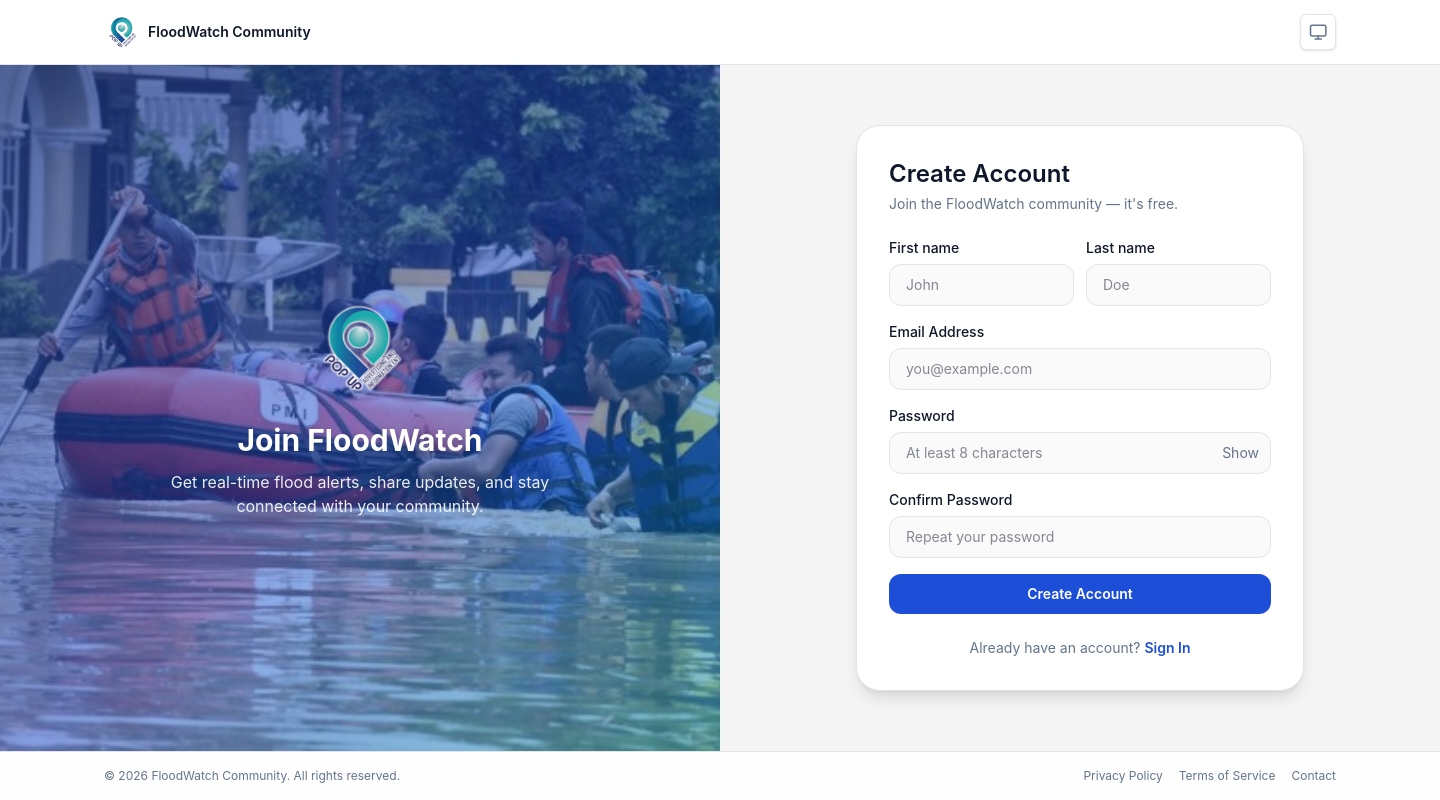
it: Community · register › surfaces a friendly message when the email already exists (409)
Type "Ada" into the field with id "firstName" at coordinates (982, 285), box x1=889 y1=264 x2=1074 y2=306
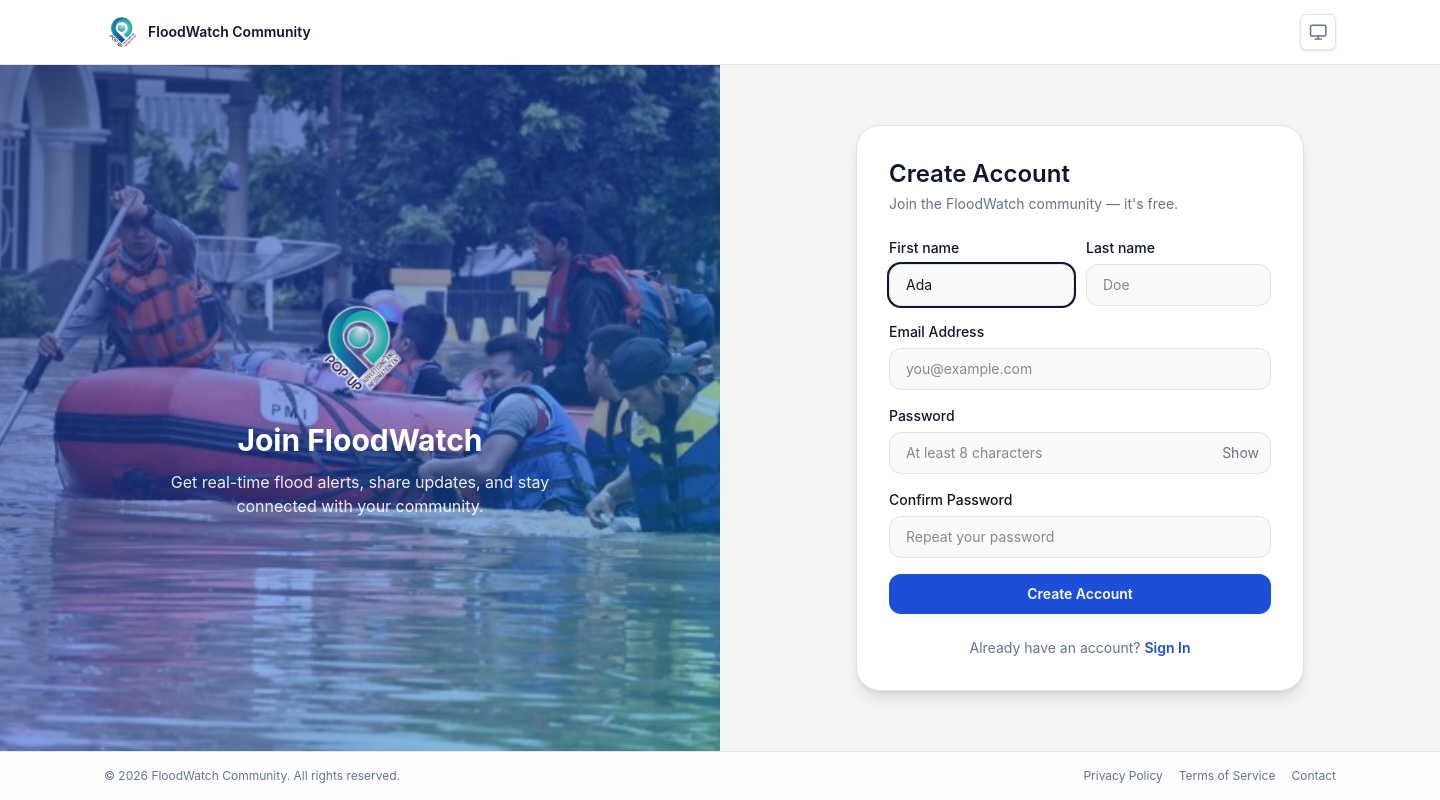
Type "Lovelace" into the field with id "lastName" at coordinates (1179, 285), box x1=1086 y1=264 x2=1271 y2=306
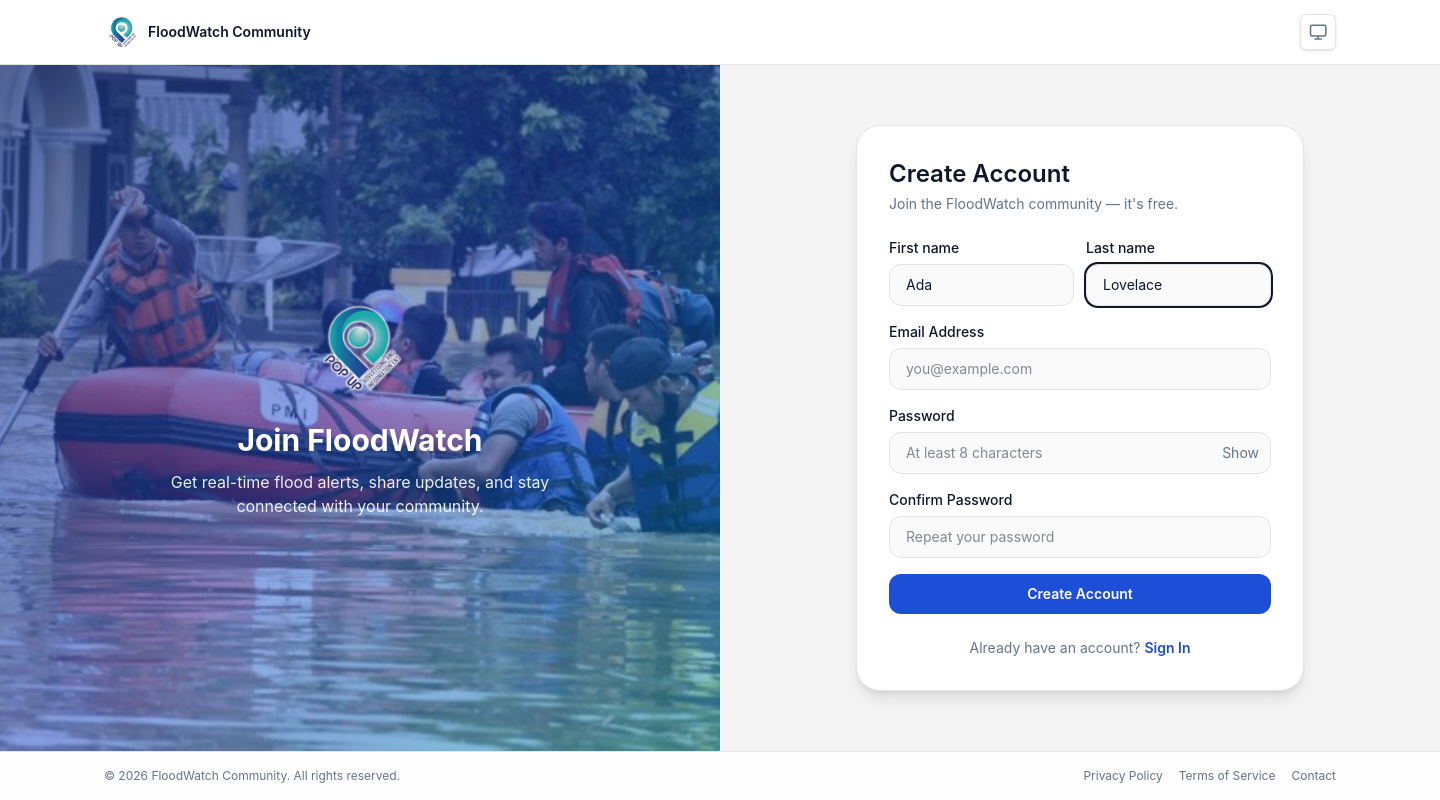
Type "taken@example.com" into the field with id "email" at coordinates (1080, 369), box x1=889 y1=348 x2=1271 y2=390
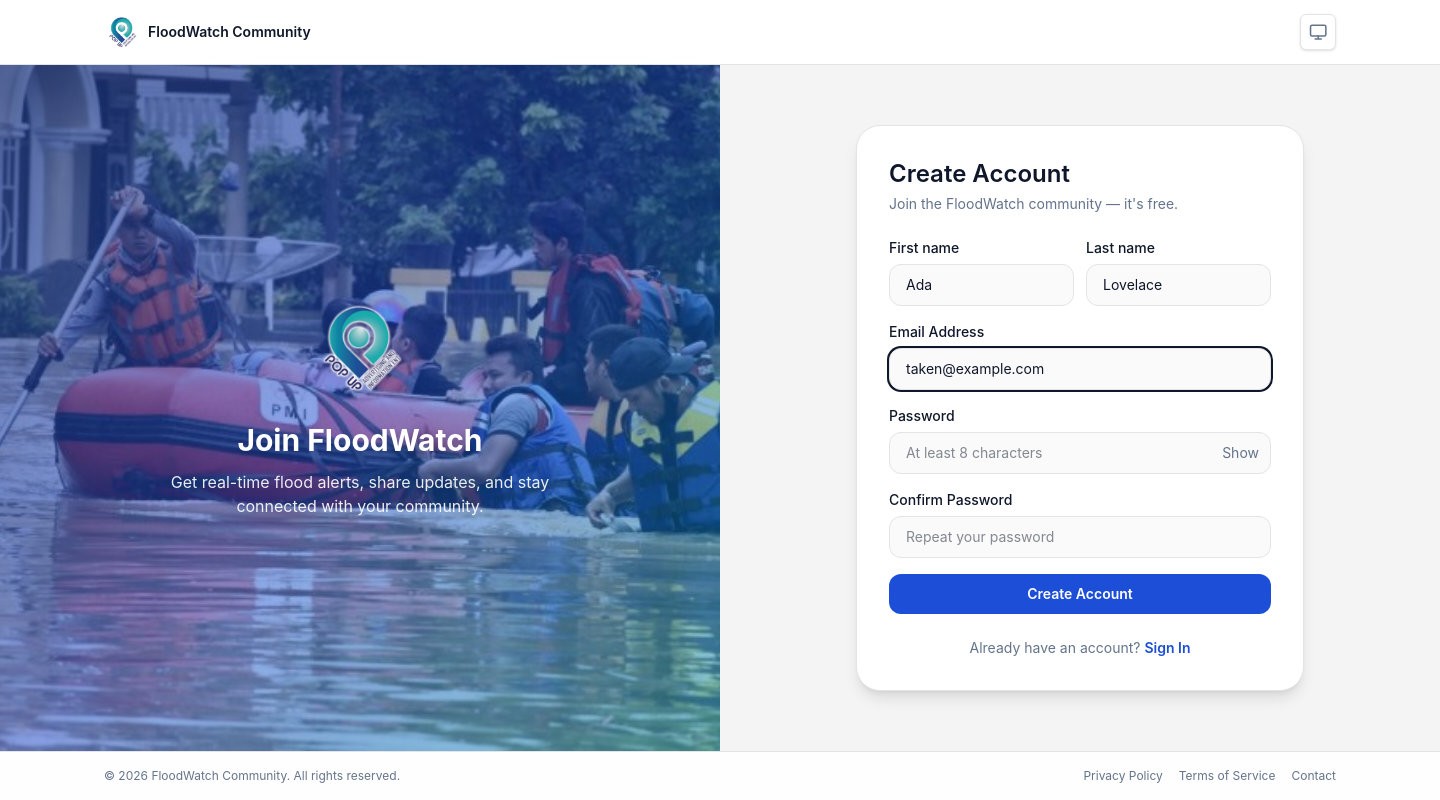
Type "Password@123" into the password field labelled "Password" at coordinates (1080, 453), box x1=889 y1=432 x2=1271 y2=474
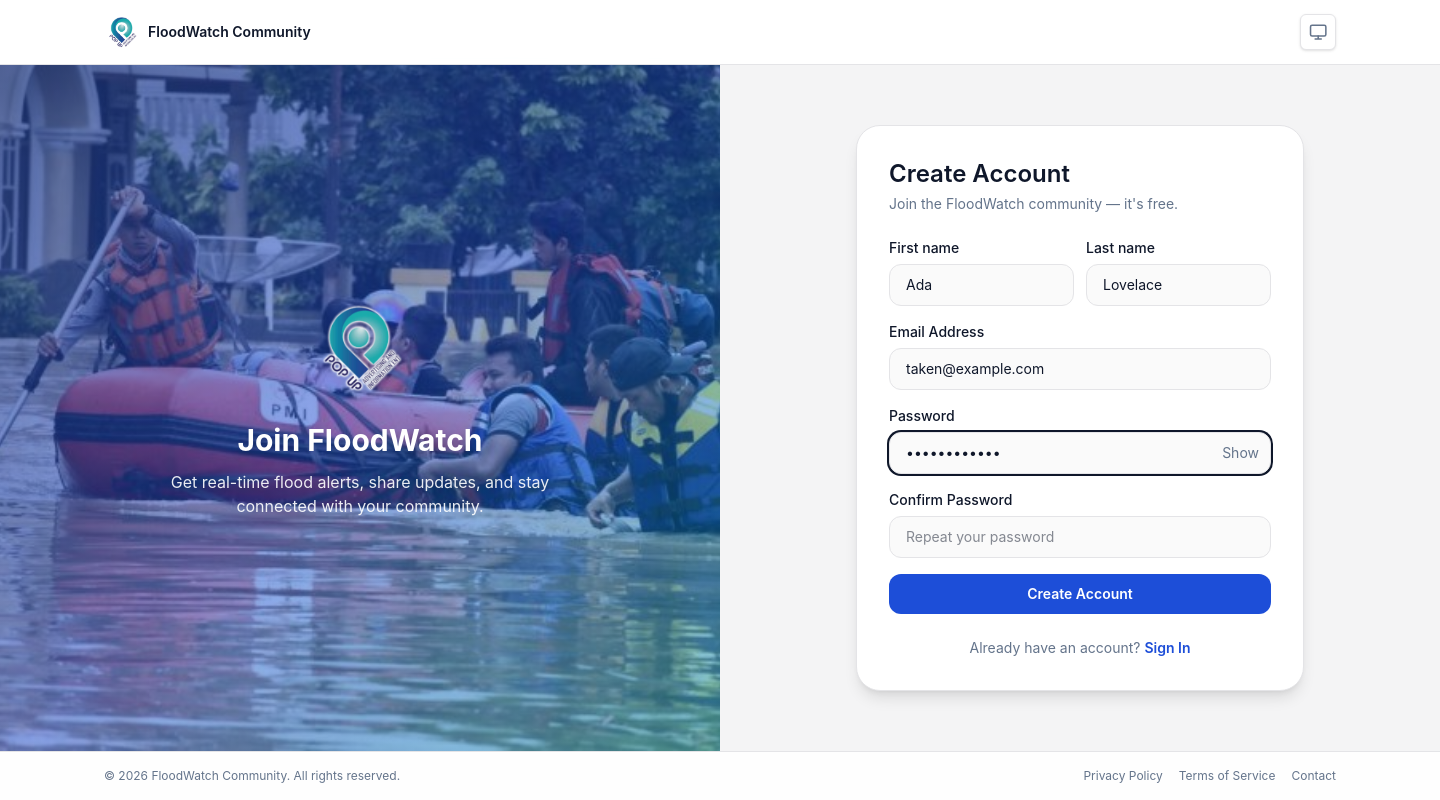
Type "Password@123" into the password field with id "confirmPassword" at coordinates (1080, 537), box x1=889 y1=516 x2=1271 y2=558
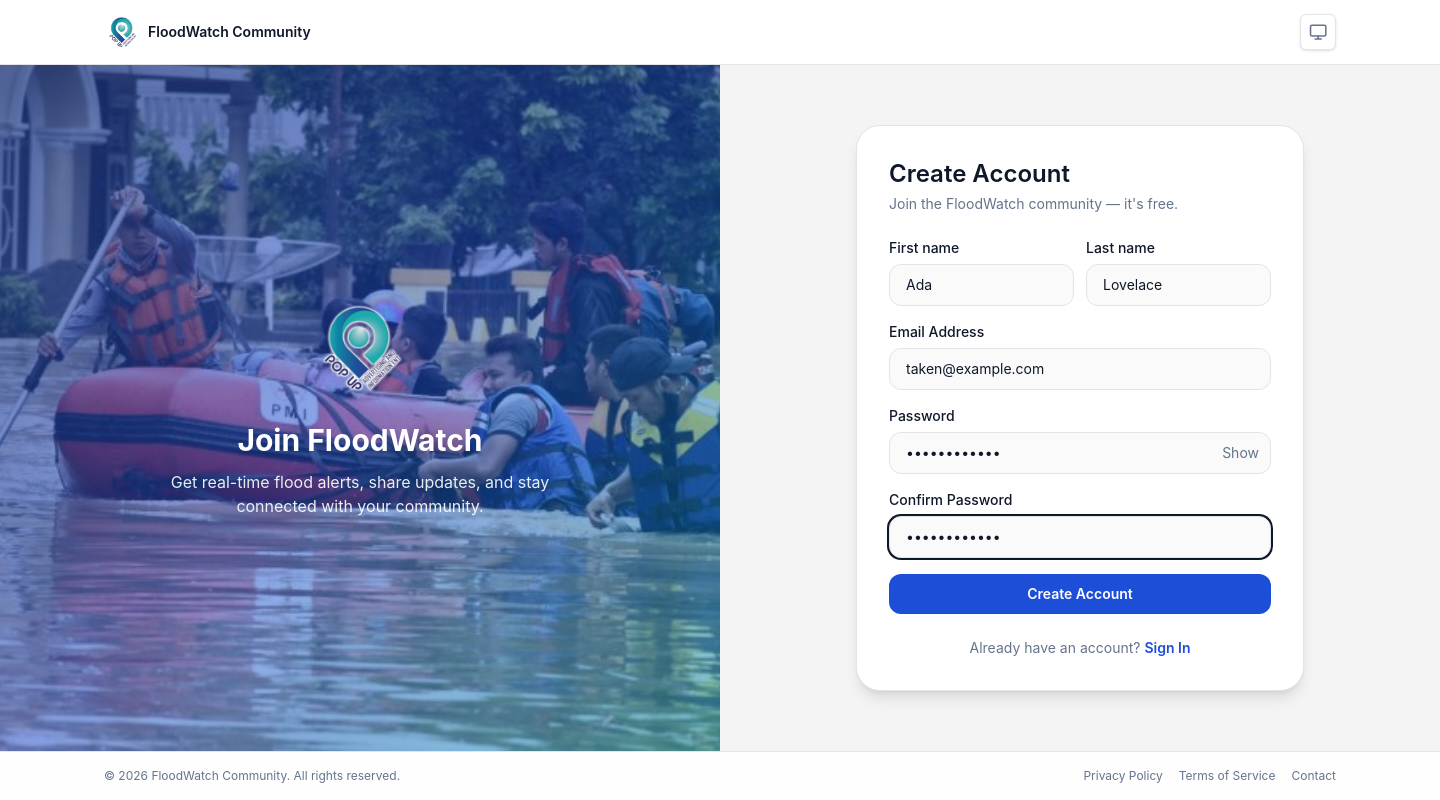
Click the button with test id "register-submit" at coordinates (1080, 594), box x1=889 y1=574 x2=1271 y2=614
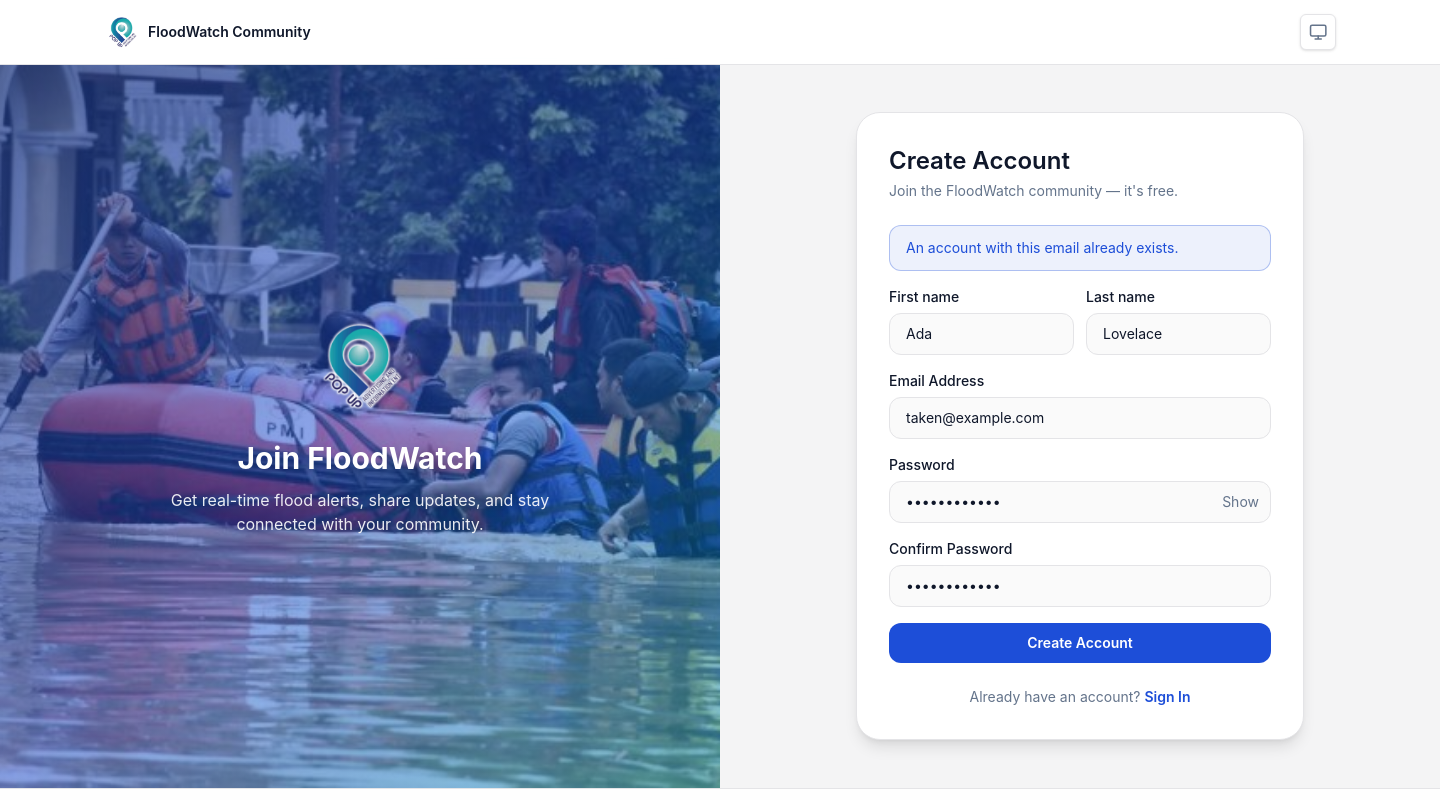
Expected: the text with test id "register-error" shows "already exists", x1=906 y1=239 x2=1178 y2=256
